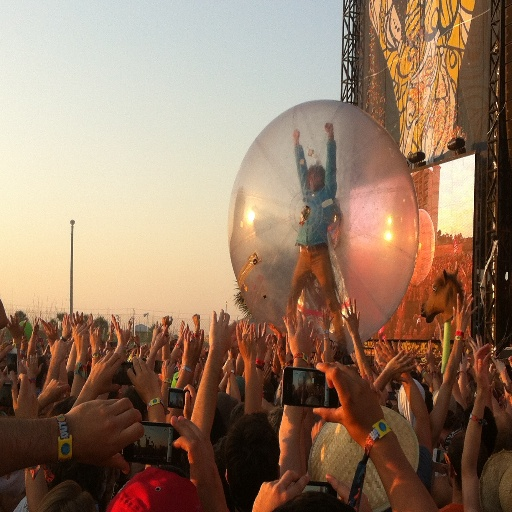hand: (316, 360, 403, 460), (65, 395, 145, 478), (168, 413, 226, 501), (251, 468, 310, 511), (324, 472, 372, 511), (88, 349, 123, 396), (125, 356, 160, 399), (208, 307, 237, 358), (10, 372, 38, 420), (450, 291, 480, 334), (384, 348, 418, 384), (471, 339, 489, 401), (285, 307, 306, 358), (338, 295, 360, 337), (184, 327, 204, 368), (234, 323, 254, 364), (253, 320, 272, 363), (372, 336, 398, 367), (42, 377, 71, 404), (3, 311, 26, 343), (70, 321, 92, 354), (48, 337, 73, 365), (0, 343, 15, 389), (109, 311, 125, 346), (182, 382, 196, 419), (26, 352, 44, 379), (87, 324, 102, 353), (37, 318, 55, 341), (160, 358, 175, 384), (468, 331, 483, 357), (153, 328, 171, 349), (437, 435, 447, 472), (319, 308, 334, 331), (307, 319, 318, 350), (491, 355, 508, 375), (500, 365, 511, 394), (424, 338, 433, 369), (70, 308, 84, 326), (151, 319, 163, 340), (488, 361, 497, 389), (59, 311, 68, 338), (161, 313, 175, 329), (263, 362, 273, 384), (241, 317, 251, 337), (223, 357, 234, 375), (178, 317, 185, 345), (125, 316, 132, 343), (85, 310, 95, 327), (31, 314, 39, 334), (437, 320, 444, 342), (458, 349, 466, 367), (315, 334, 322, 354), (20, 335, 28, 352), (138, 343, 149, 355), (290, 127, 300, 140), (191, 312, 199, 327), (237, 317, 245, 332), (323, 122, 333, 134), (330, 342, 336, 359), (132, 334, 140, 345), (508, 352, 511, 370)
